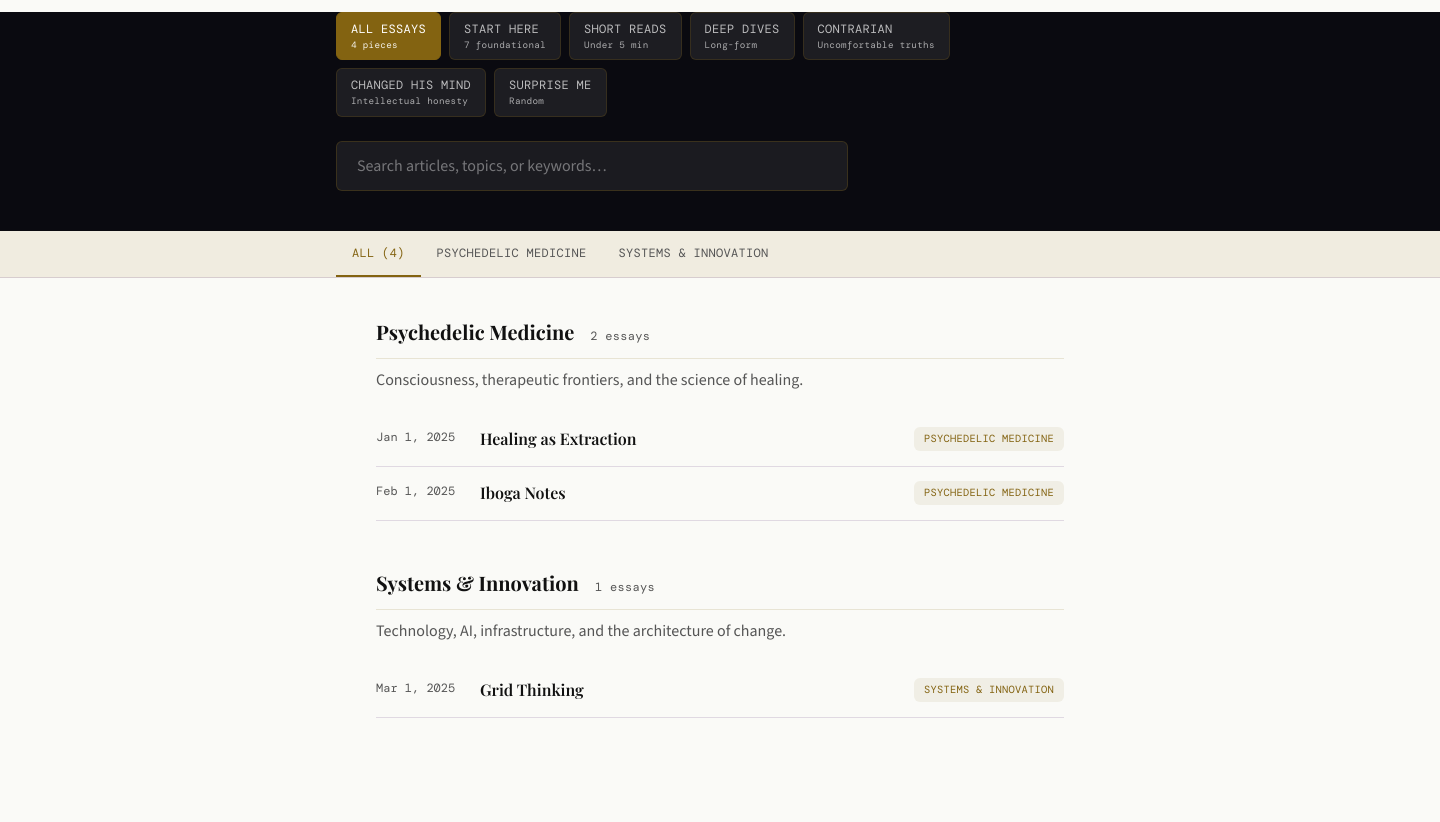
Test: ArticlesExplorer › a category tab narrows the list
What coordinates should you click on to do the following:
click the button "Systems & Innovation"
I would click on:
 (694, 254)
Its box is [602, 231, 784, 277].
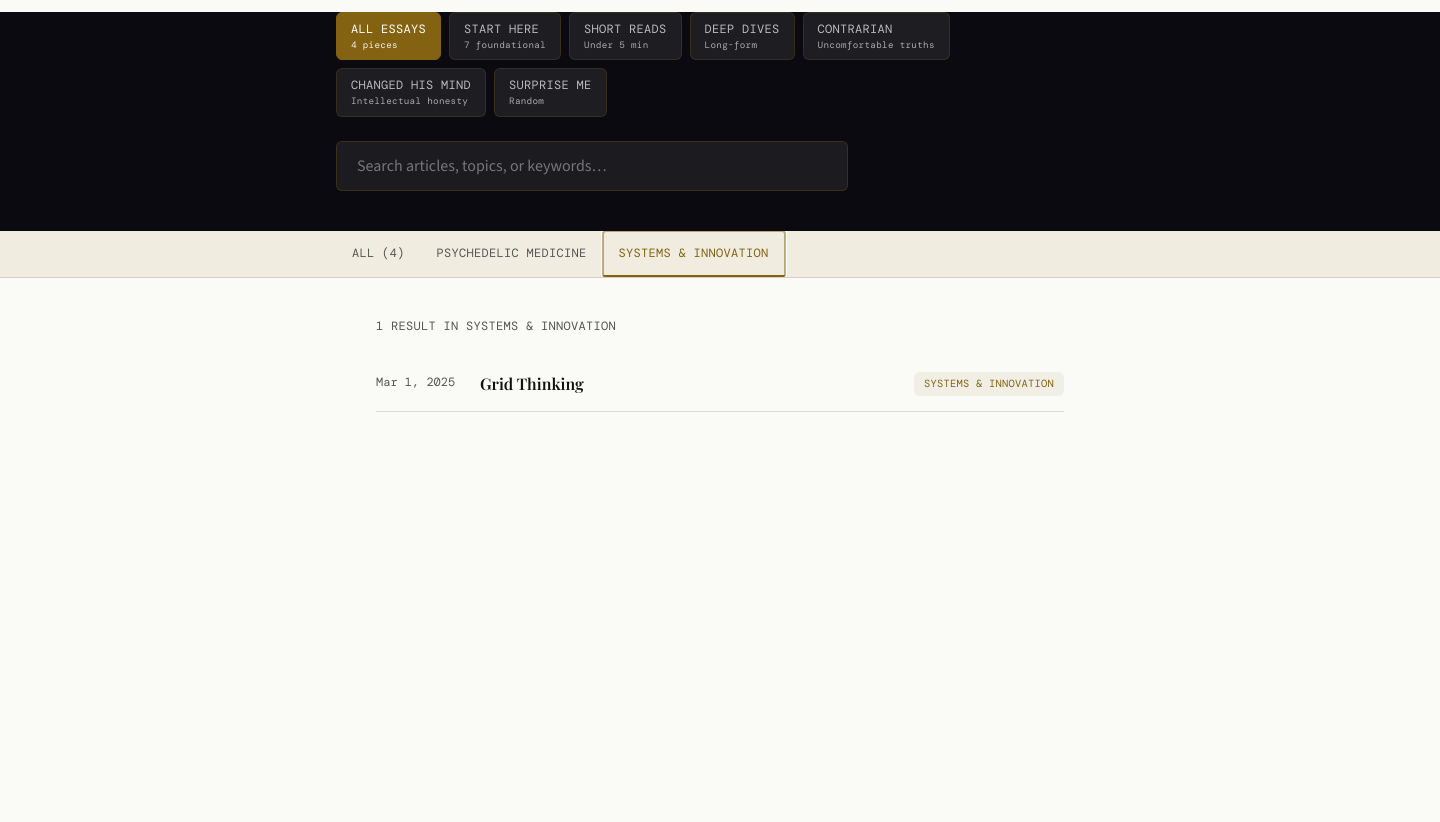
Result: the text "1 result in Systems & Innovation" is shown at [376, 318, 616, 334]
